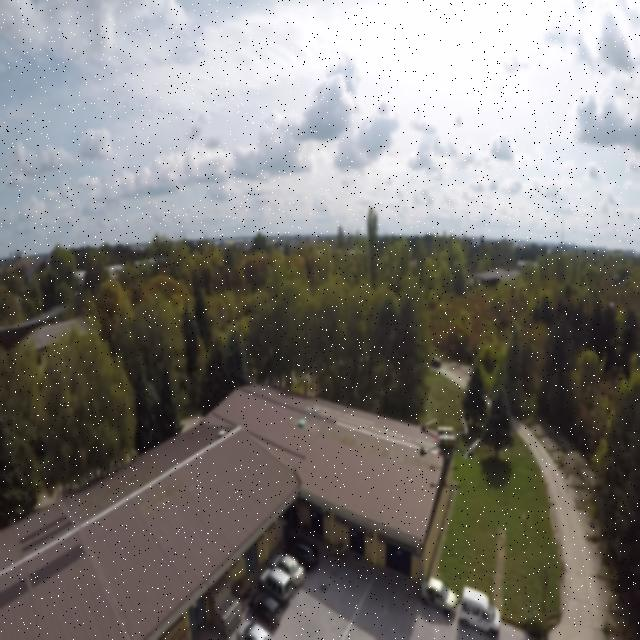UAV: (412, 416, 484, 492)
